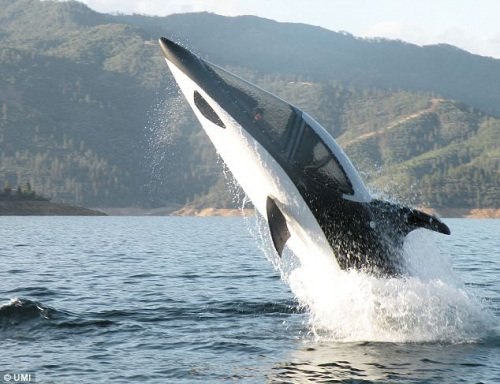fish: (155, 36, 450, 324)
